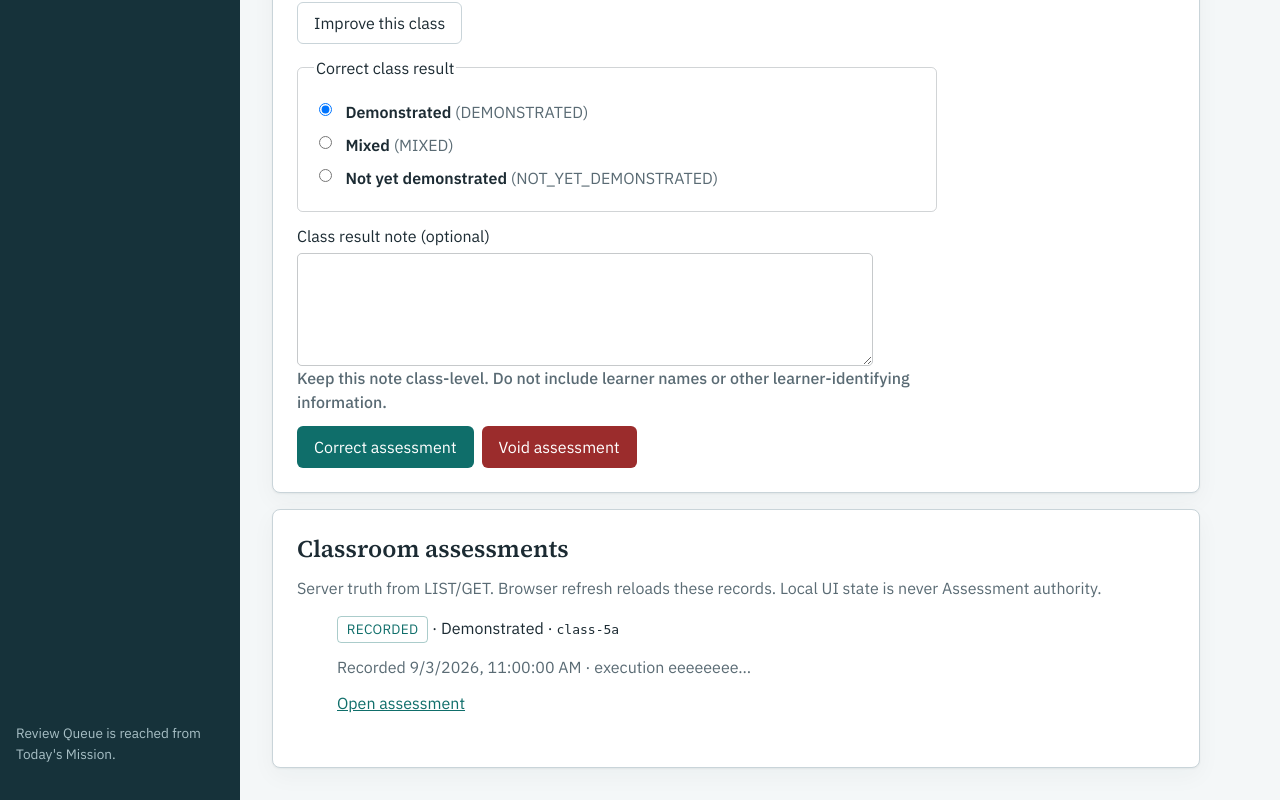
Test: TOS-DEV08-I03 Assess page › VOID requires confirmation and sends If-Match + Idempotency-Key
(page scrolled)
Click the button "Void assessment".
click(559, 447)  # box [482, 426, 636, 468]
(page scrolled)
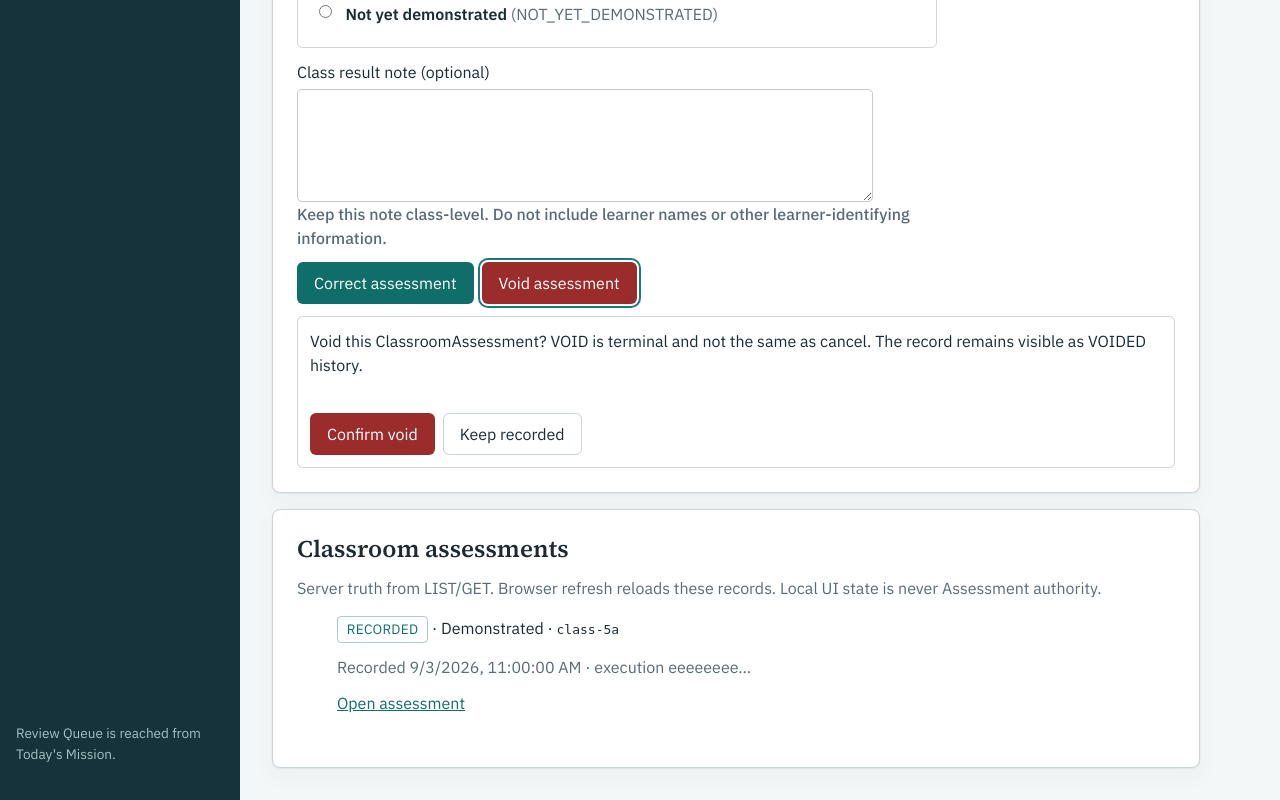
Now the element named "Confirm void ClassroomAssessment" is shown, box [297, 316, 1175, 468]
Click the button "Confirm void".
click(372, 434)  # box [310, 413, 435, 455]
(page scrolled)
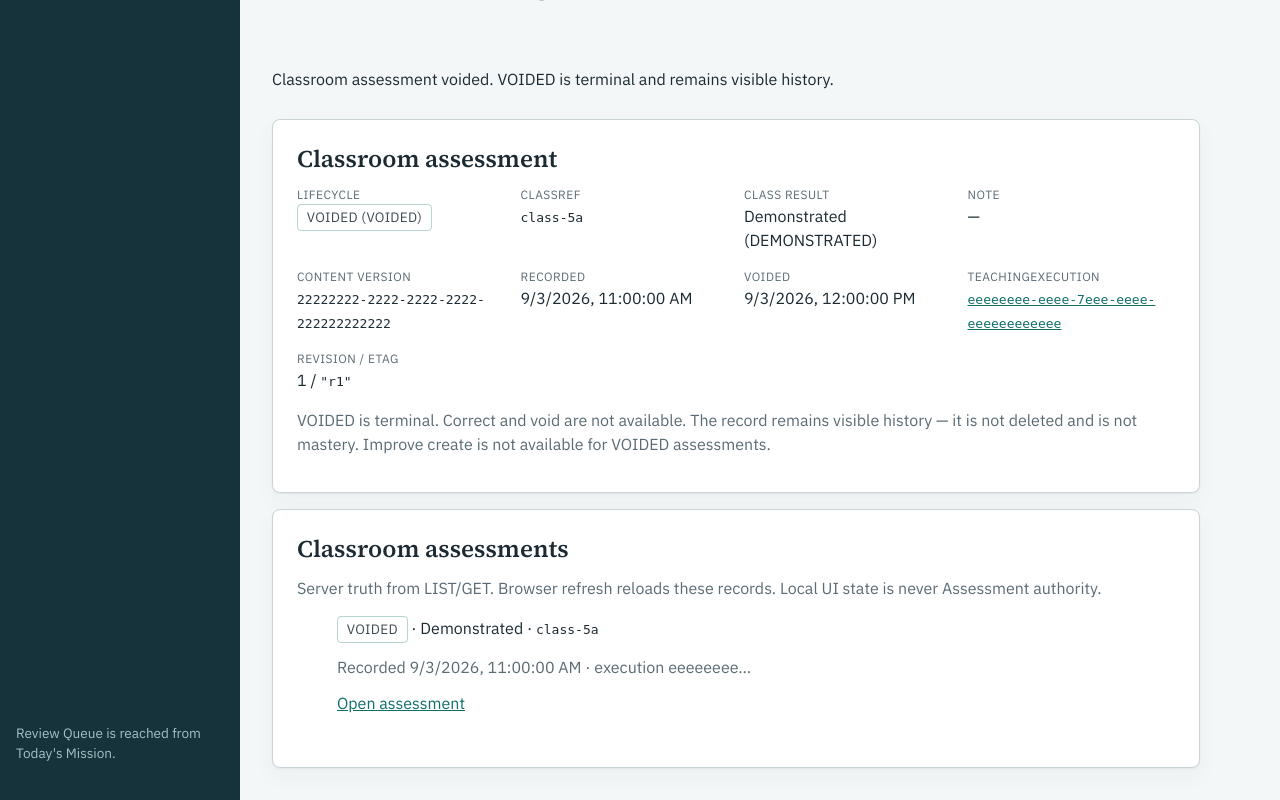
Expected: the text "Voided (VOIDED)" is shown, [297, 204, 432, 231]
Now the text "Classroom assessment voided. VOIDED is terminal and remains visible history." is shown, box [272, 69, 834, 89]
Now the button "Correct assessment" is gone
